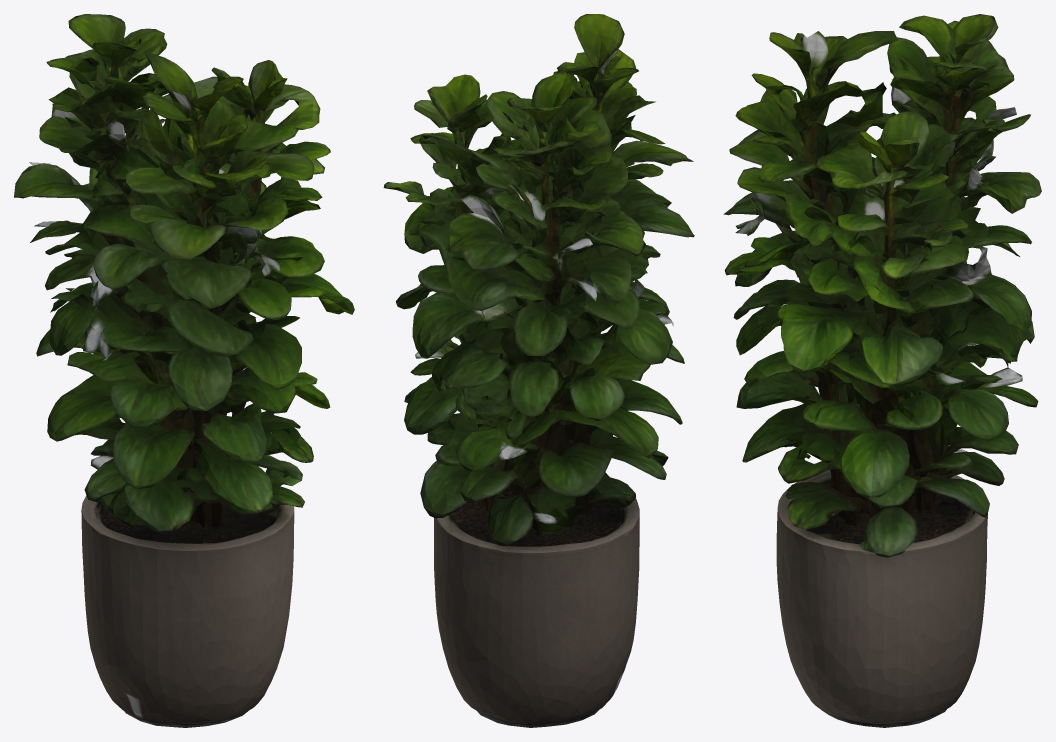
The picture shows the model from 3 angles, left to right: view 1: azimuth 30°, elevation 25°; view 2: azimuth 150°, elevation 25°; view 3: azimuth 270°, elevation 25°; orthographic projection.
Parts seen in each view (by area): view 1: world; view 2: world; view 3: world.
Part boxes in pixels (x1,y1,x2,y2): world: (14,14,354,727); world: (383,14,694,727); world: (723,14,1041,727).
Size of the model in its own units: 0.4502 by 0.9994 by 0.4392.
1 material, 1 textured.
